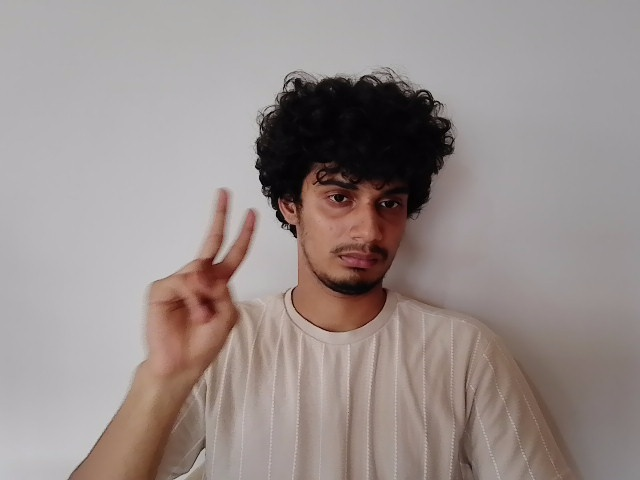travel: (136, 180, 262, 378)
